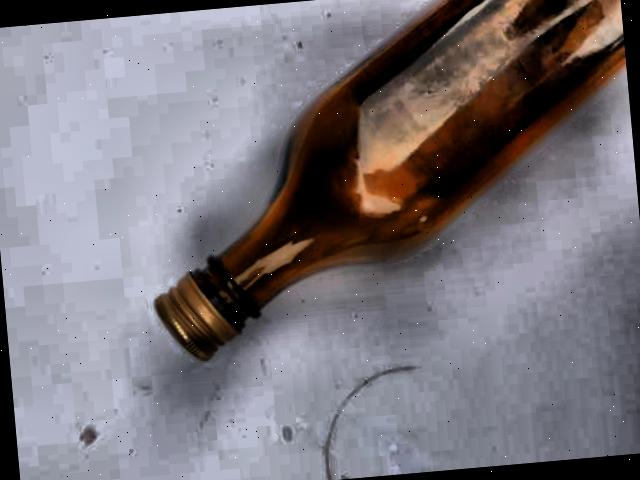Bottles: (122, 0, 640, 374)
